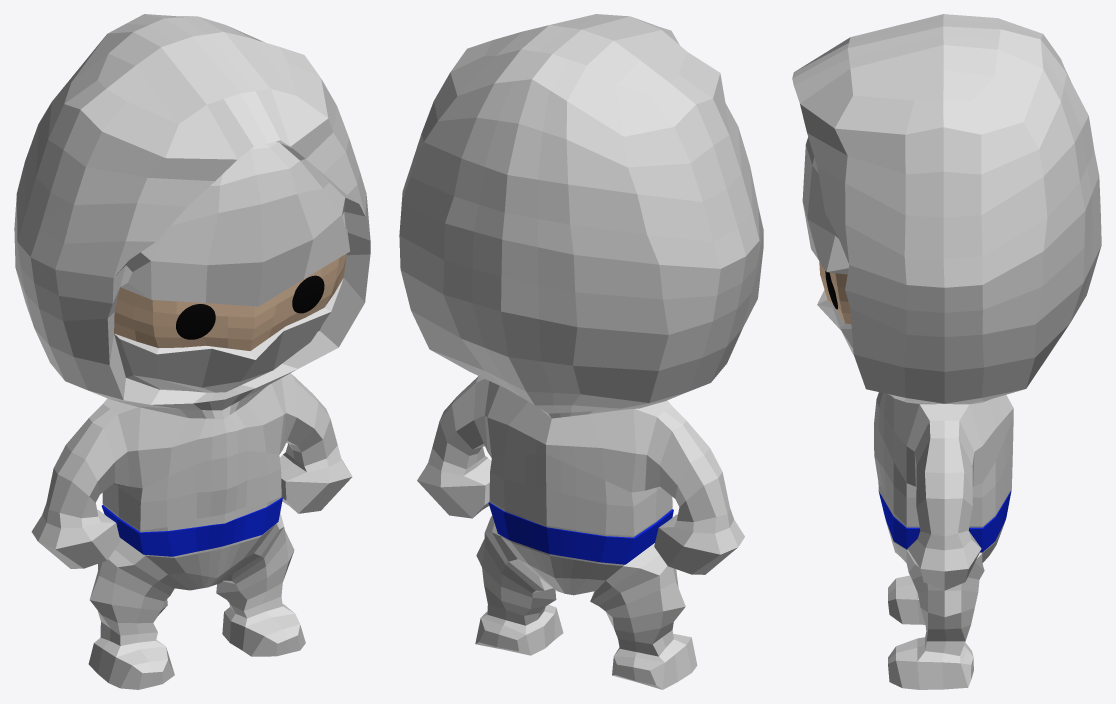
The model's file is ninja2.gltf.
3 renders of one model, left to right at view 1: azimuth 30°, elevation 25°; view 2: azimuth 150°, elevation 25°; view 3: azimuth 270°, elevation 25°, orthographic. The views are drawn at different scales.
Parts seen in each view (by area): view 1: Cube, Sphere.001, Sphere; view 2: Cube; view 3: Cube.
Boxes of the visible parts, bbox=[...] form: Cube: bbox=[14, 14, 370, 689]; Sphere.001: bbox=[176, 304, 215, 339]; Sphere: bbox=[292, 275, 324, 313]; Cube: bbox=[399, 14, 763, 689]; Cube: bbox=[792, 14, 1101, 689].
Bounding box in the file's own units: 3.69 × 6.72 × 3.06.
